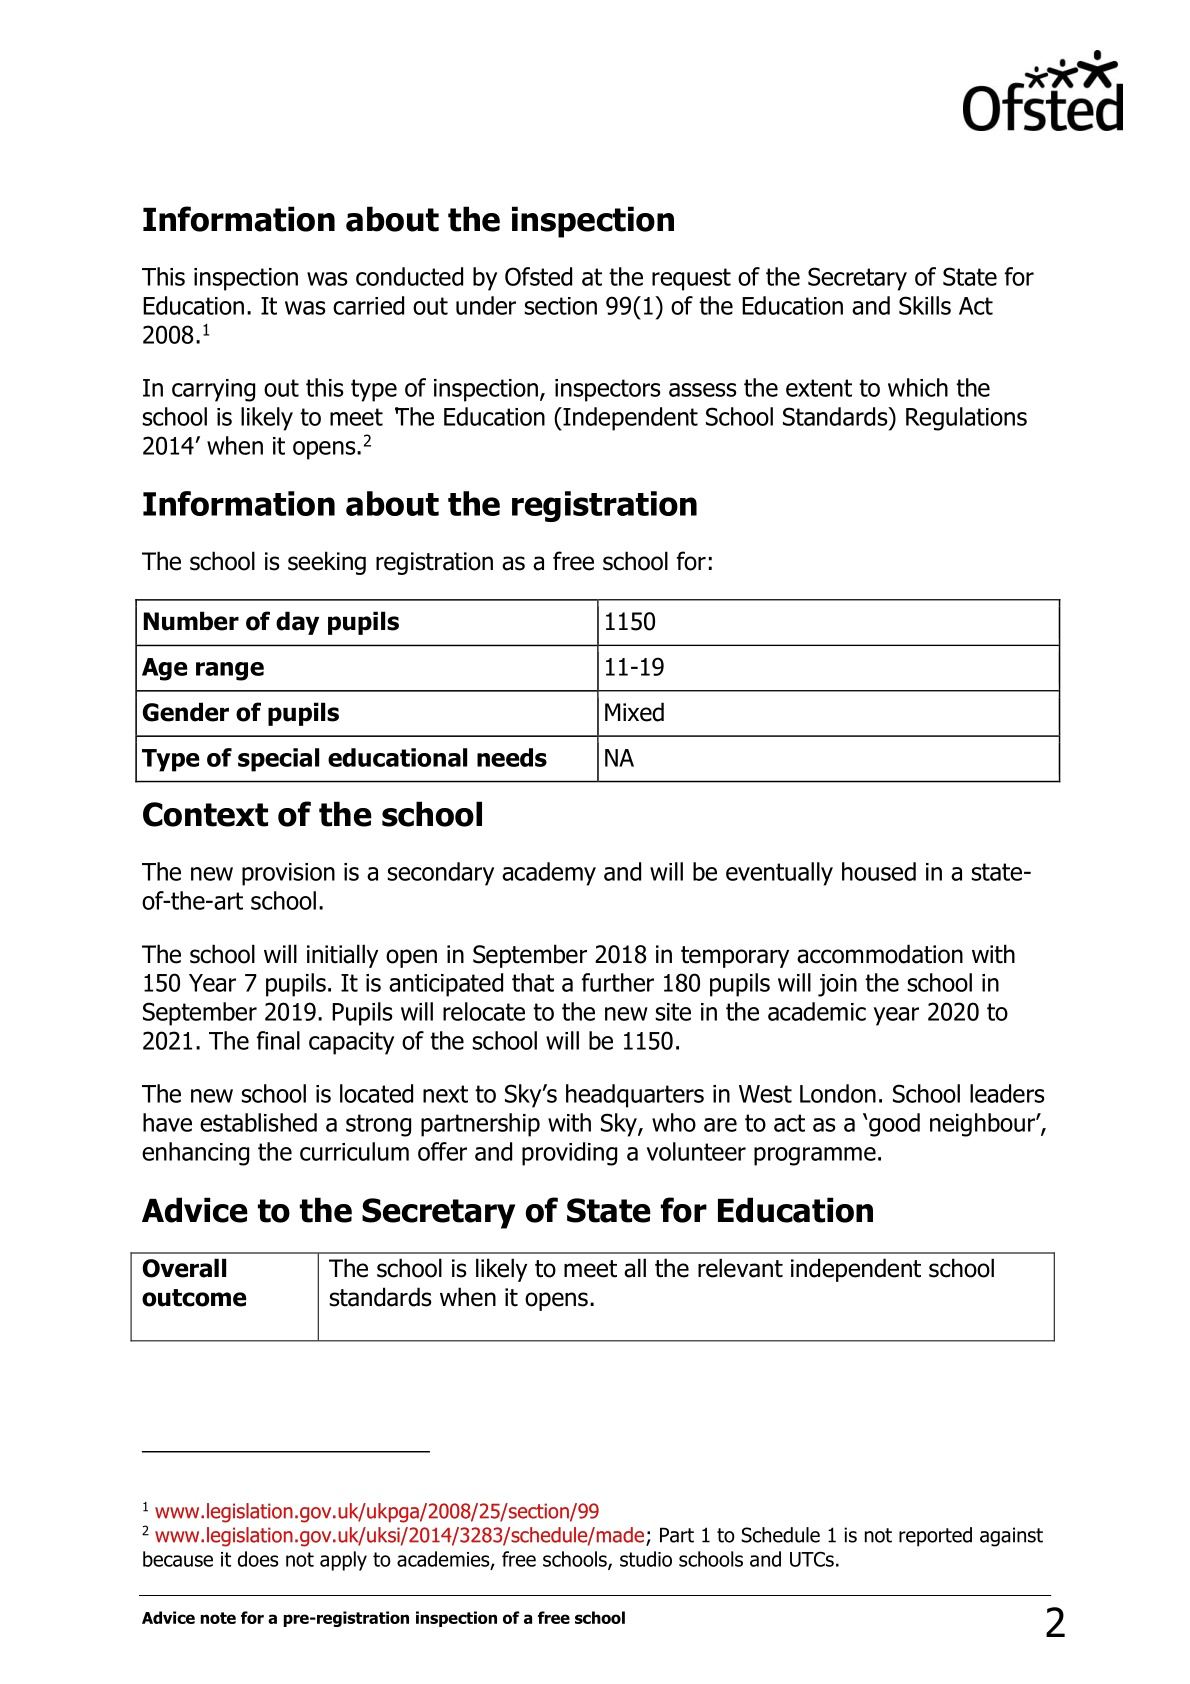full_lined: (135, 597, 1061, 784), (130, 1251, 1056, 1343)
